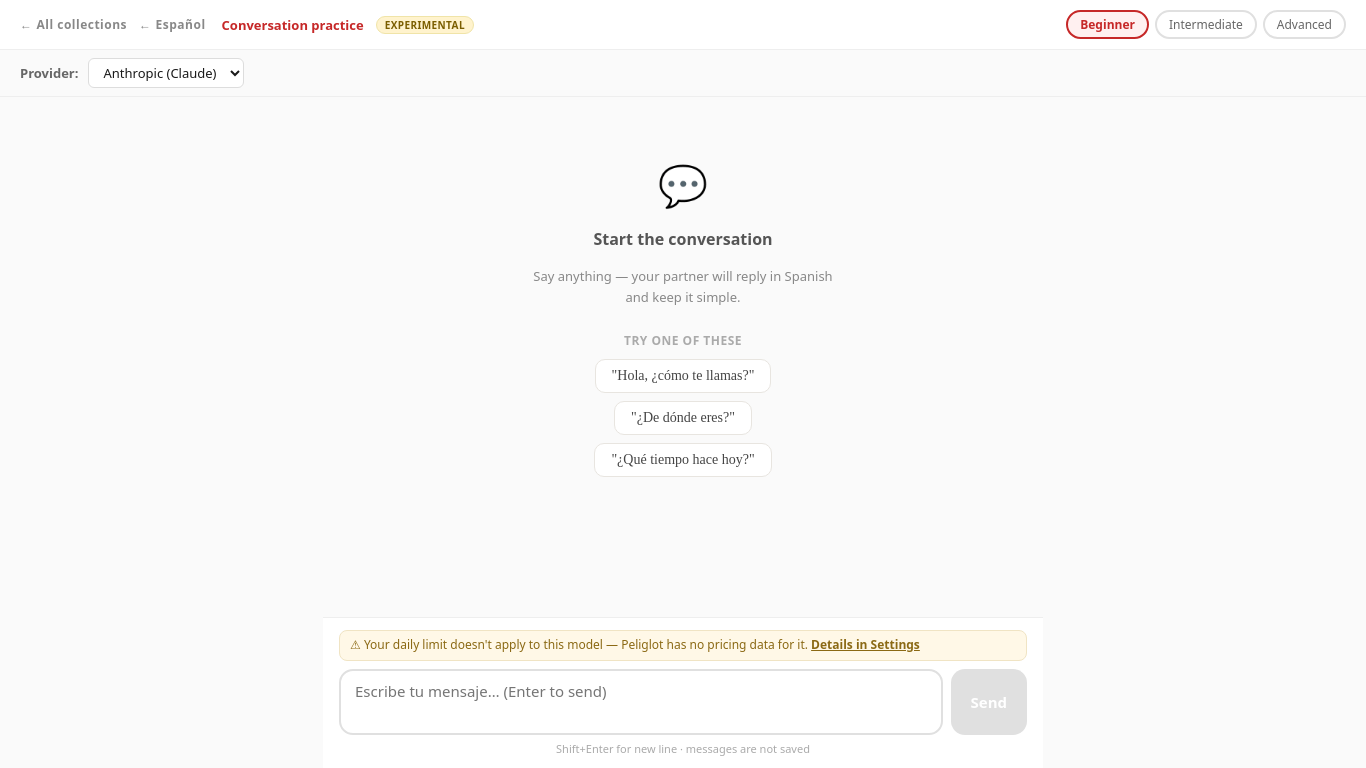
Test: error handling › shows retry button in error message
The width and height of the screenshot is (1366, 768).
Type "Hola" into the text box named "message input". click: (641, 702)
box: [339, 669, 942, 735]
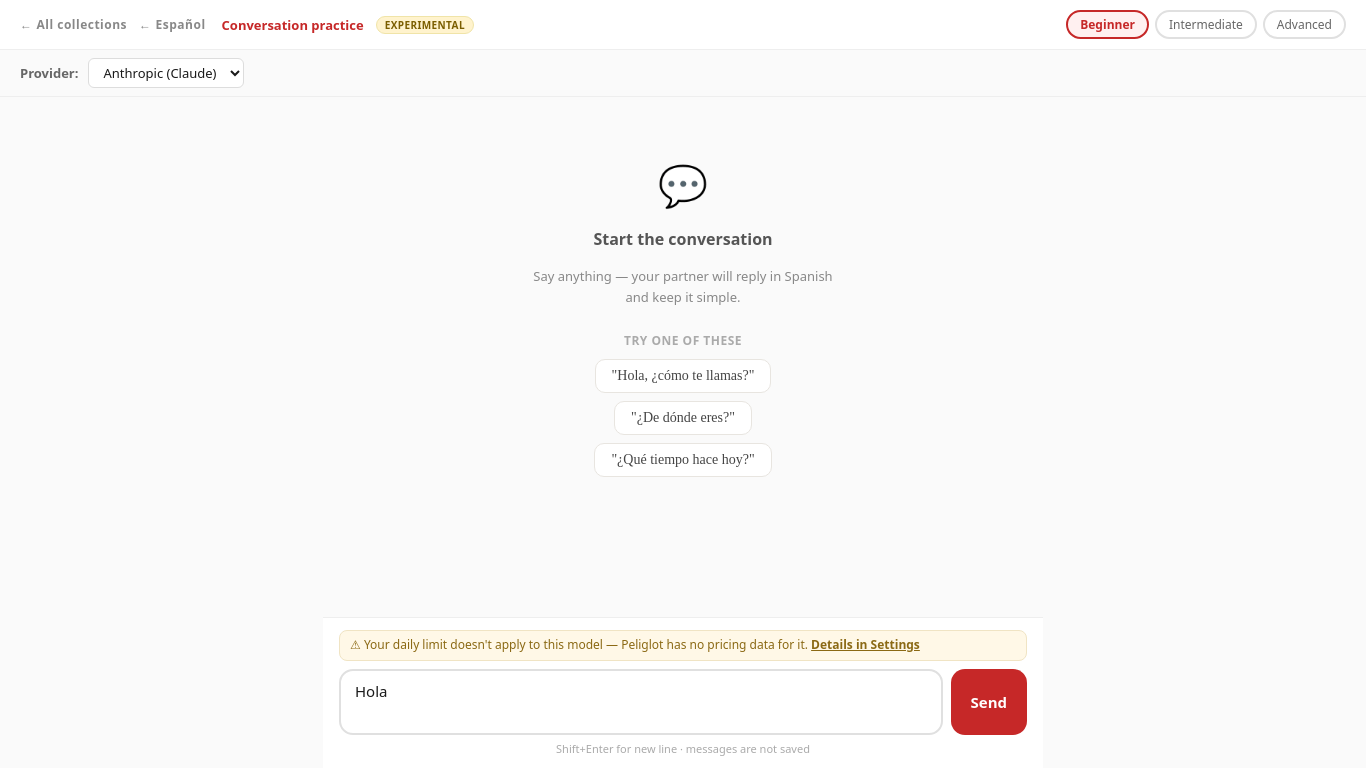
Click the button with aria-label "send message". click: (989, 702)
box: [950, 669, 1027, 735]
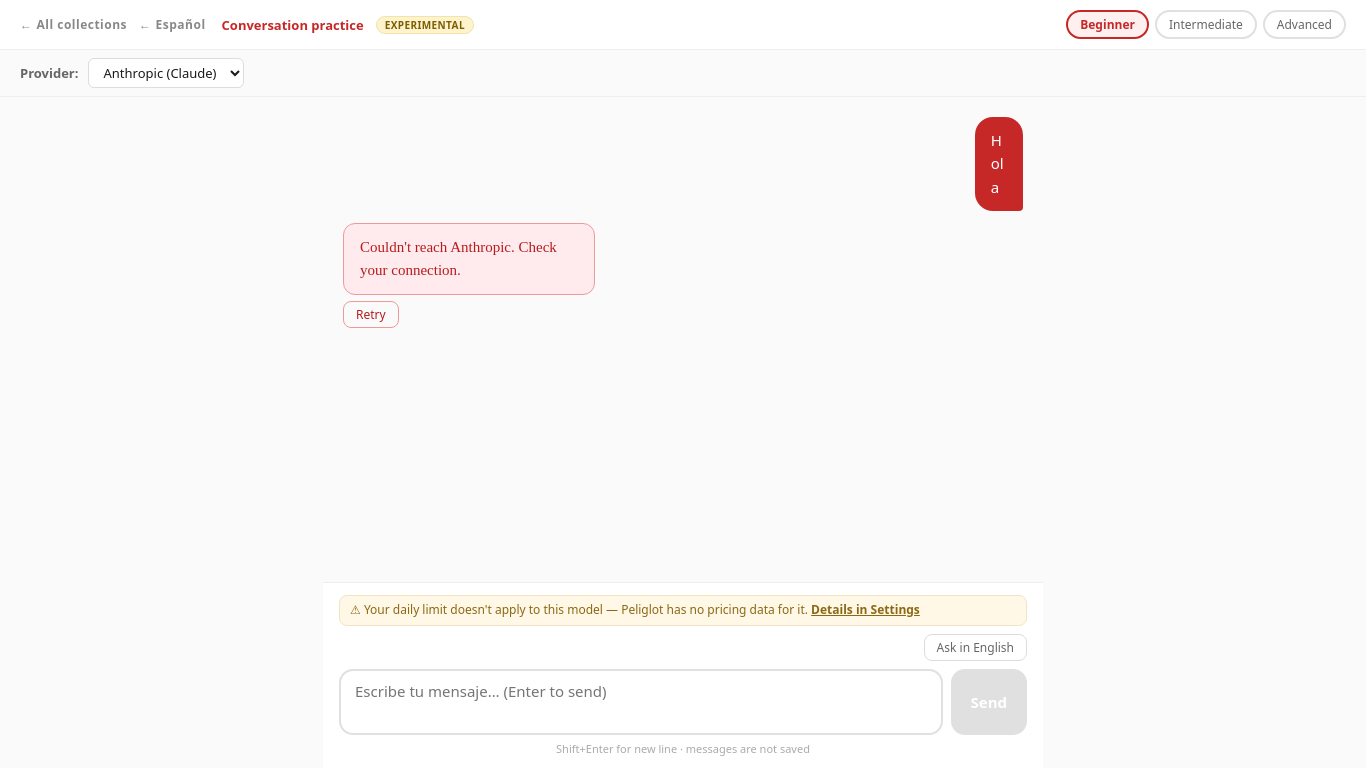
Check: the button "Retry" is shown, box [343, 301, 399, 328]
